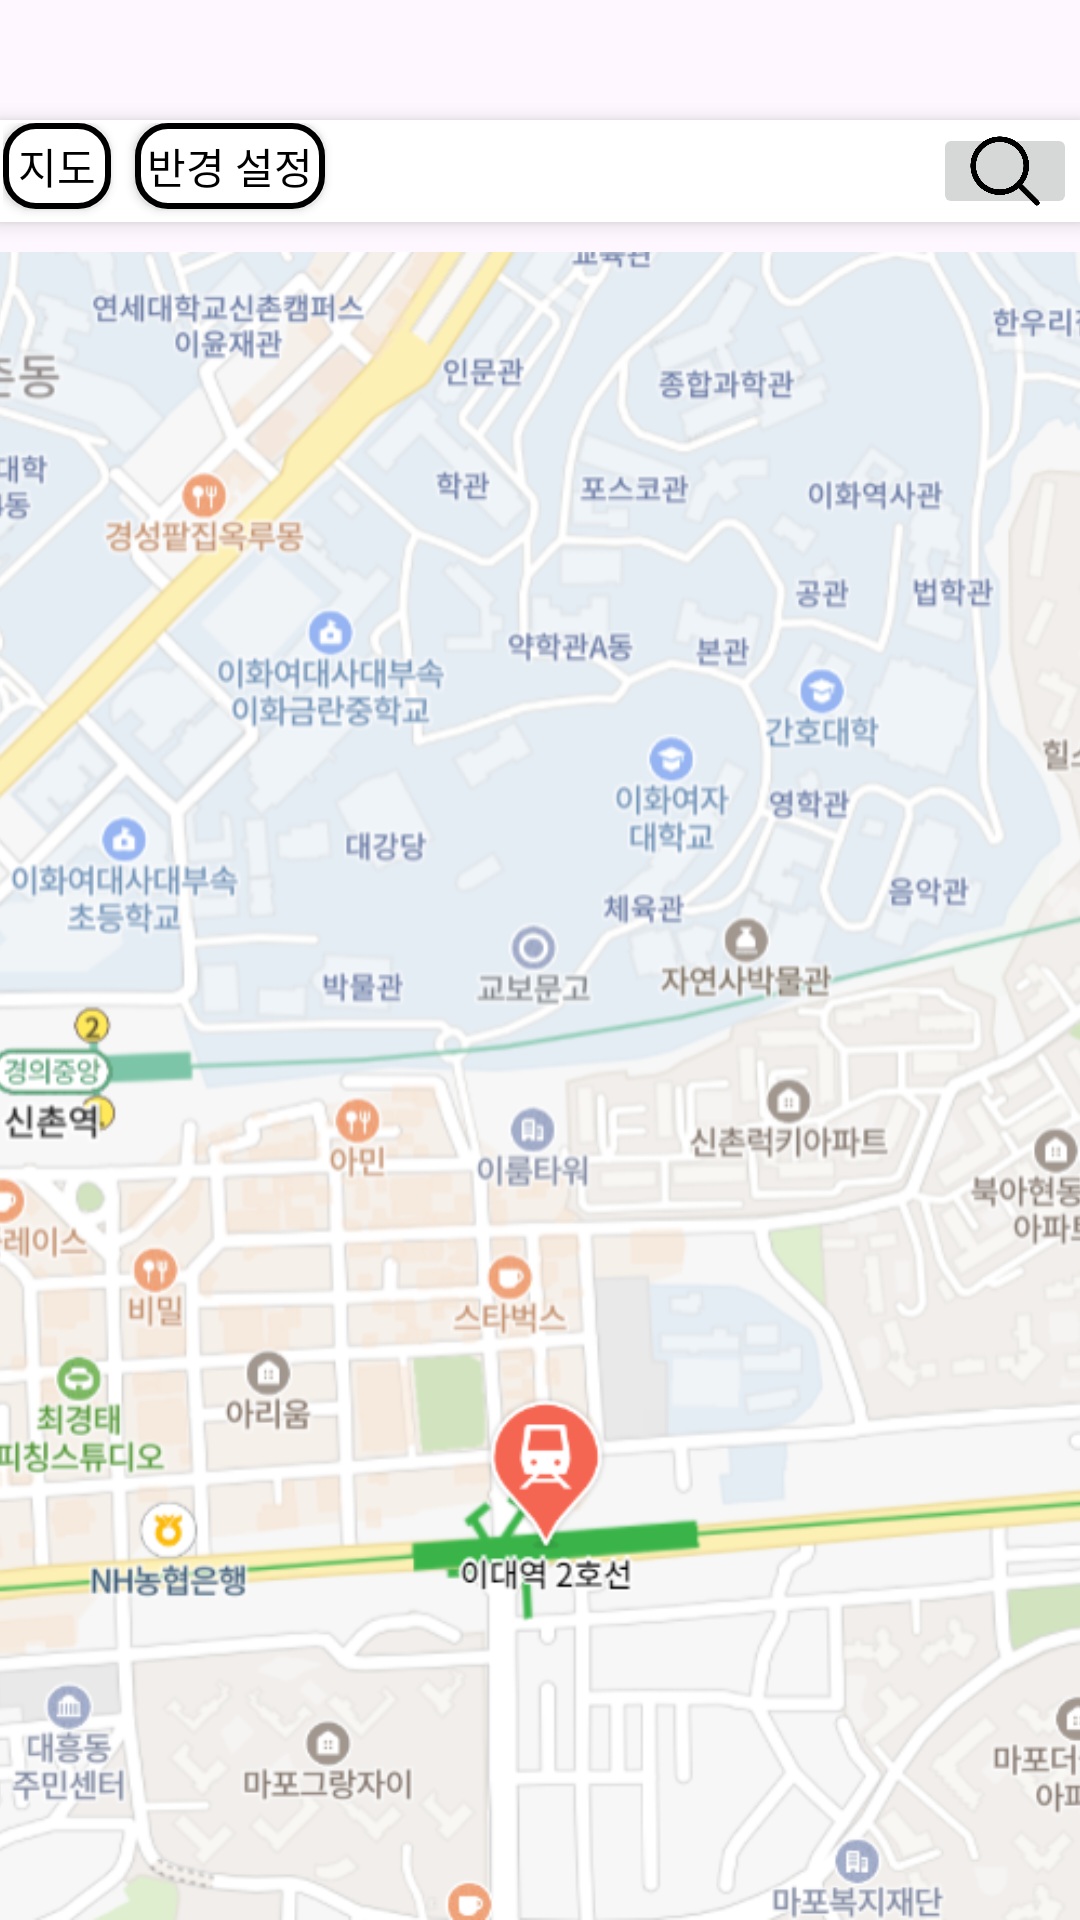

Point at icon controls on the screen. Image size 1080 × 1920, points as (x=x, y=y).
검색: (x=1005, y=171)
